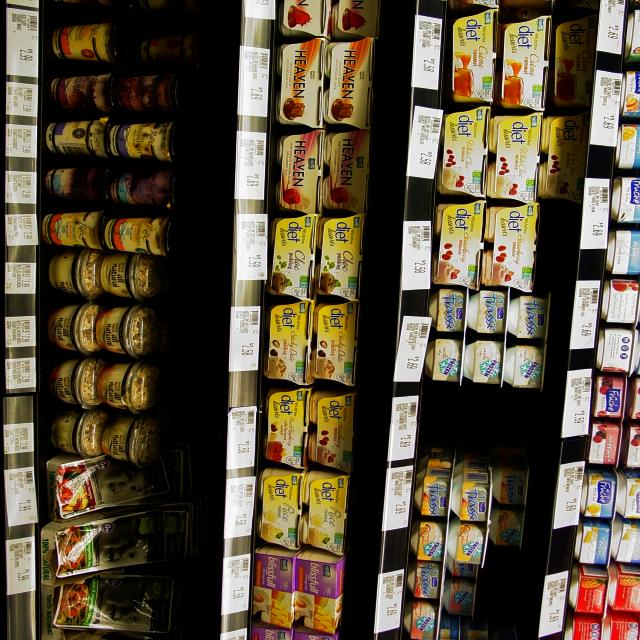empty_space: (418, 392, 533, 448), (480, 551, 532, 615)
